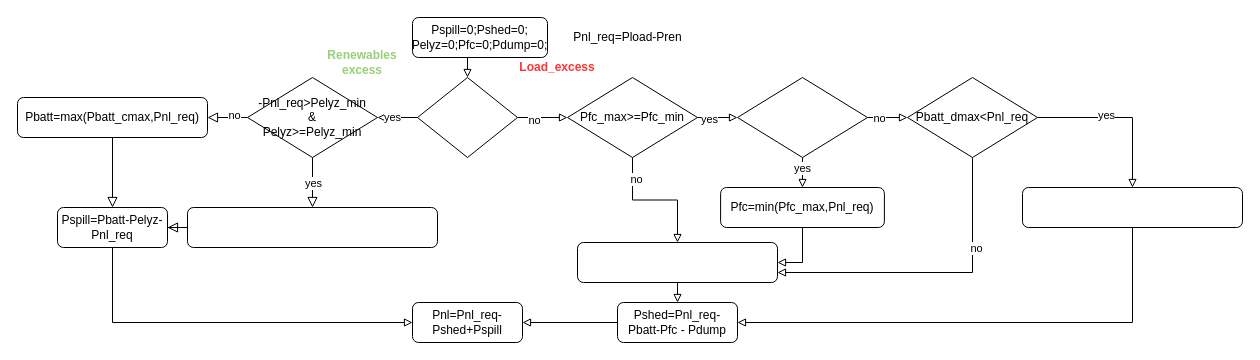
Some shapes in this 1260 by 360 pixel diagram are drawn without their labels. The shapes that lost their labels are listed below. From the top down, each one's centre as x and y in pixels, then its label:
(467,117): Pnl_req<0
(802,117): Pnl_req>=Pfc_min
(312,227): Pelyz=min(Pelyz_max,-Pnl_req) Pbatt=max(Pelyz+Pnl_req,Pbatt_cmax)
(1132,207): Pfc=Pfc_min Pbatt=max(Pnl_req-Pfc,Pbatt_cmax) Pdump=Pnl_req-Pfc-Pbatt
(677,262): Pbatt=min(Pnl_req-Pfc,Pbatt_dmax)
